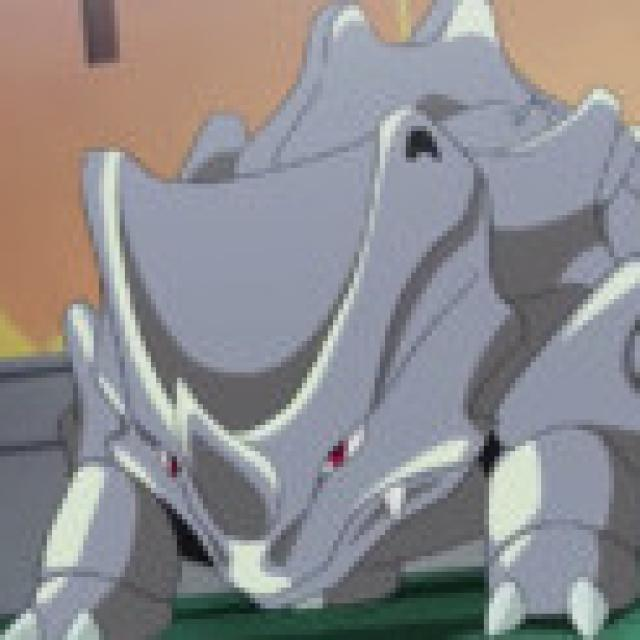Rhyhorn: (61, 92, 616, 640)
